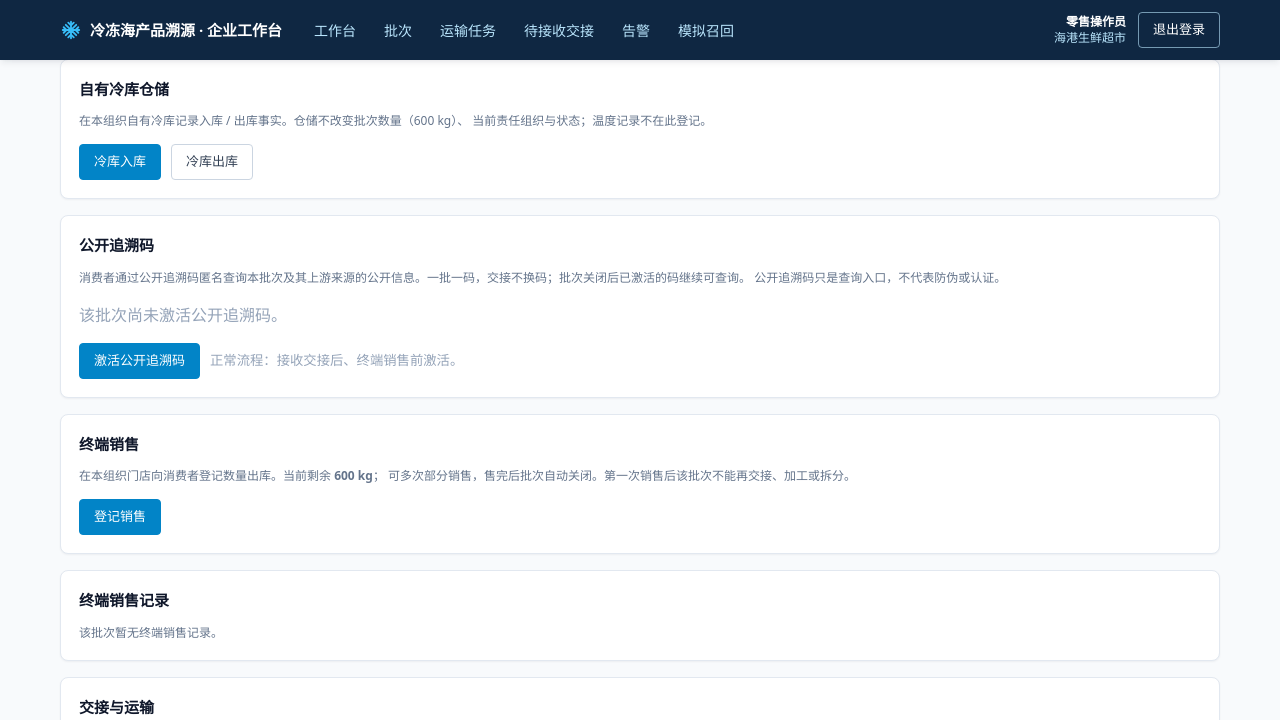
PublicTraceCode panel › lets the current responsible OPERATOR activate a code on an ACTIVE + NORMAL batch (CSRF + Idempotency-Key) and then shows the consumer entry
The image size is (1280, 720).
(page scrolled)
Check: the text "该批次尚未激活公开追溯码。" is shown, box left=79, top=304, right=287, bottom=326
Click the button with test id "public-code-activate". click: (140, 360)
box: left=79, top=342, right=200, bottom=378
(page scrolled)
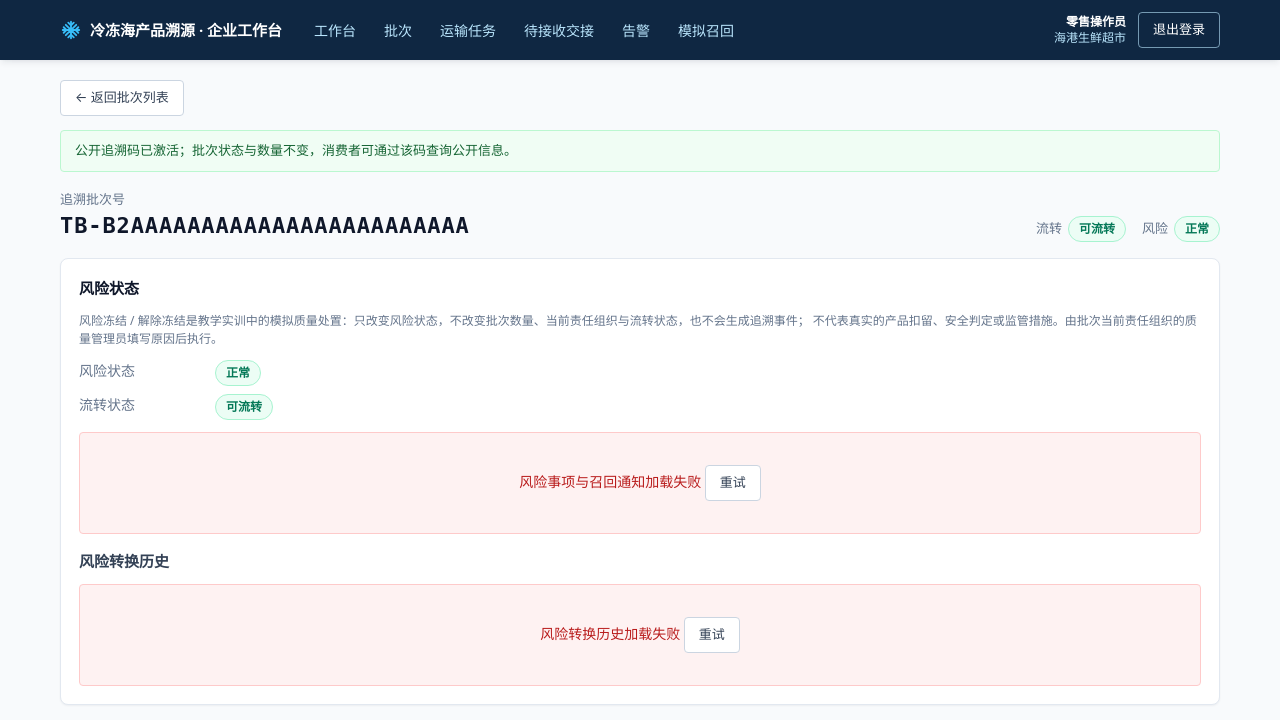
Check: the message with test id "batch-flash" shows "公开追溯码已激活", box left=75, top=141, right=517, bottom=159
